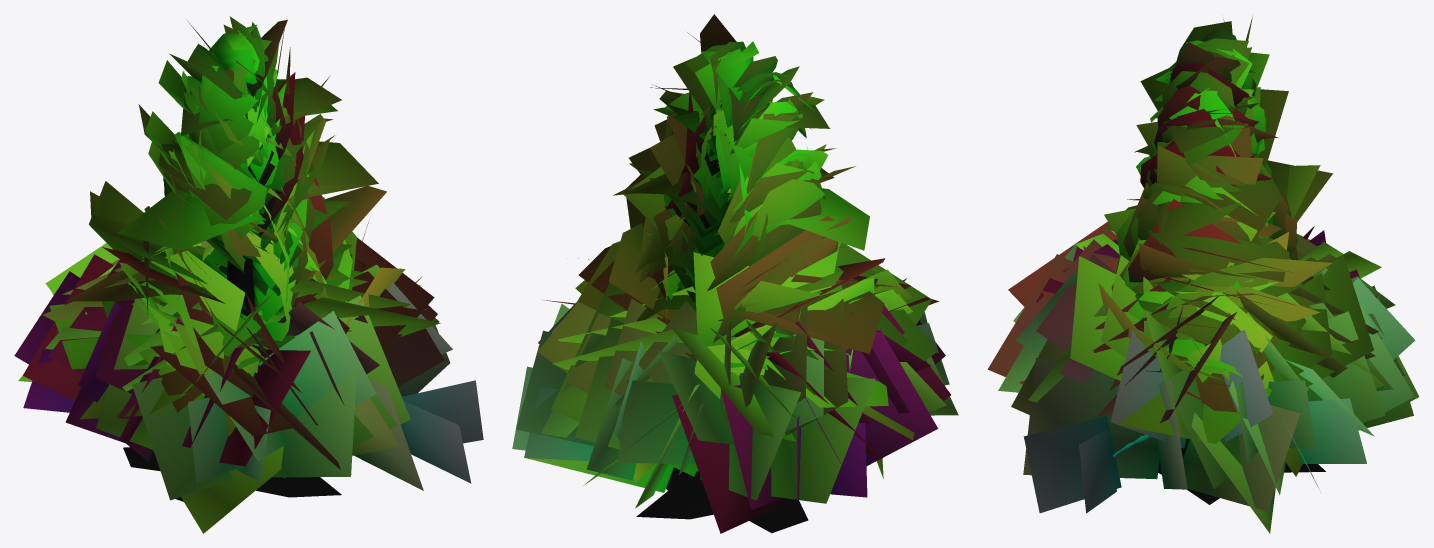
Rendered from tree.fbx.
3 views of the same model, side by side, from view 1: azimuth 30°, elevation 25°; view 2: azimuth 150°, elevation 25°; view 3: azimuth 270°, elevation 25° (orthographic). The views are drawn at different scales.
Visible parts, largest first — view 1: branch01_1, bark11_0; view 2: branch01_1, bark11_0; view 3: branch01_1, bark11_0.
Boxes of the visible parts, x1=… form: branch01_1: x1=14, y1=16, x2=483, y2=533; bark11_0: x1=123, y1=167, x2=341, y2=501; branch01_1: x1=512, y1=14, x2=958, y2=533; bark11_0: x1=636, y1=197, x2=808, y2=533; branch01_1: x1=987, y1=16, x2=1419, y2=533; bark11_0: x1=1113, y1=435, x2=1325, y2=504.
Bounding box in the file's own units: 92.65 × 105 × 93.31.
